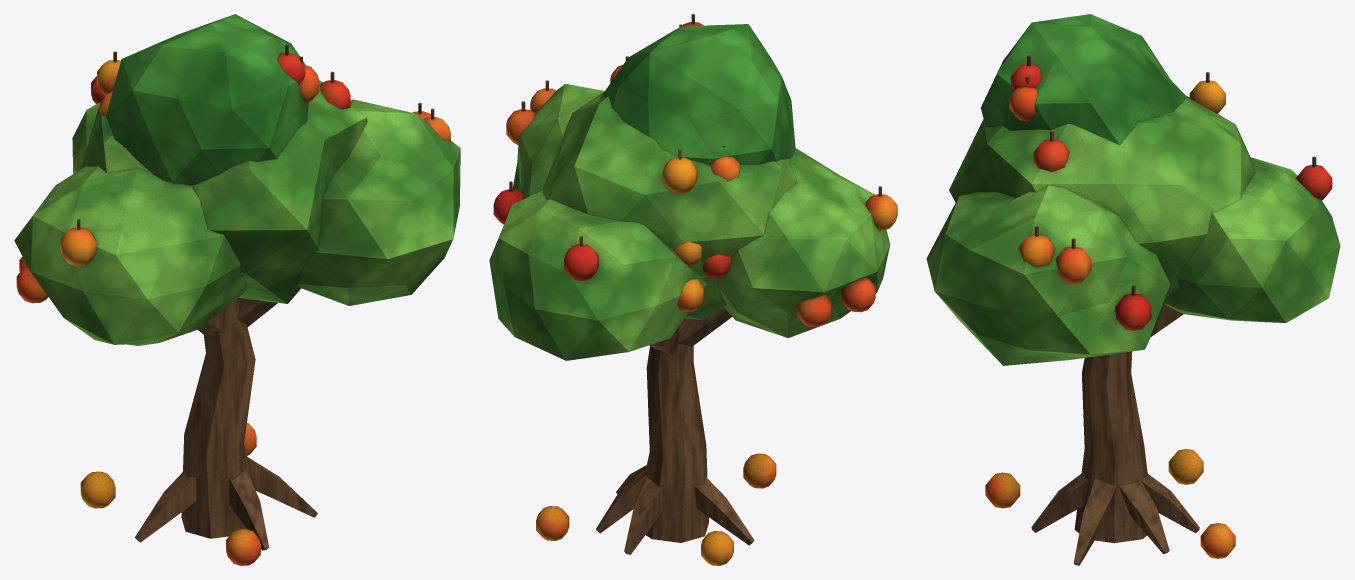
The model's file is arbol_frutal.fbx.
The picture shows the model from 3 angles, left to right: view 1: azimuth 30°, elevation 25°; view 2: azimuth 150°, elevation 25°; view 3: azimuth 270°, elevation 25°; orthographic projection. The views are drawn at different scales.
Parts seen in each view (by area): view 1: arbol_frutal; view 2: arbol_frutal; view 3: arbol_frutal.
Boxes of the visible parts, x1,y1,x2,y2 form: arbol_frutal: (14, 14, 460, 565); arbol_frutal: (489, 14, 897, 565); arbol_frutal: (926, 14, 1340, 565).
Size of the model in its own units: 11.23 by 13.7 by 10.39.
1 material, 1 textured.
